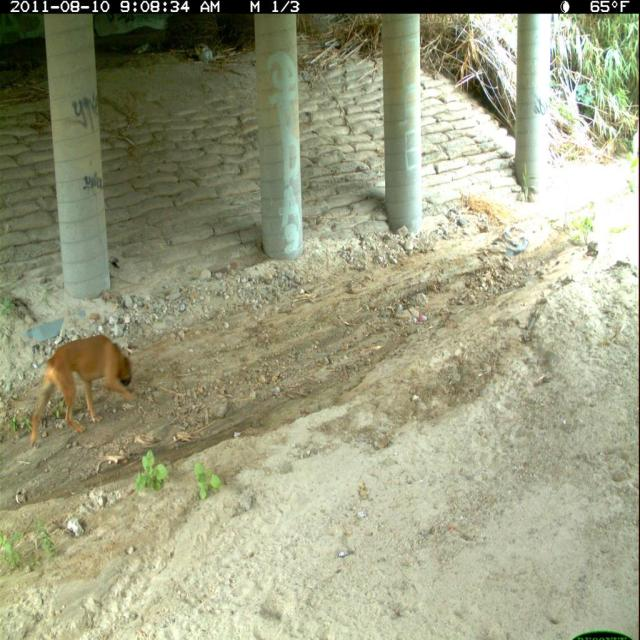dog: (27, 329, 140, 453)
